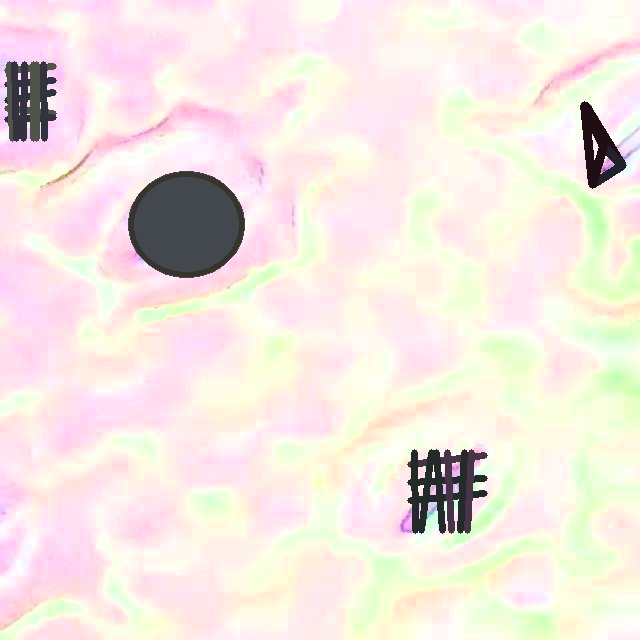open: (128, 171, 243, 278), (407, 449, 486, 532), (4, 61, 56, 141), (580, 105, 626, 188)
